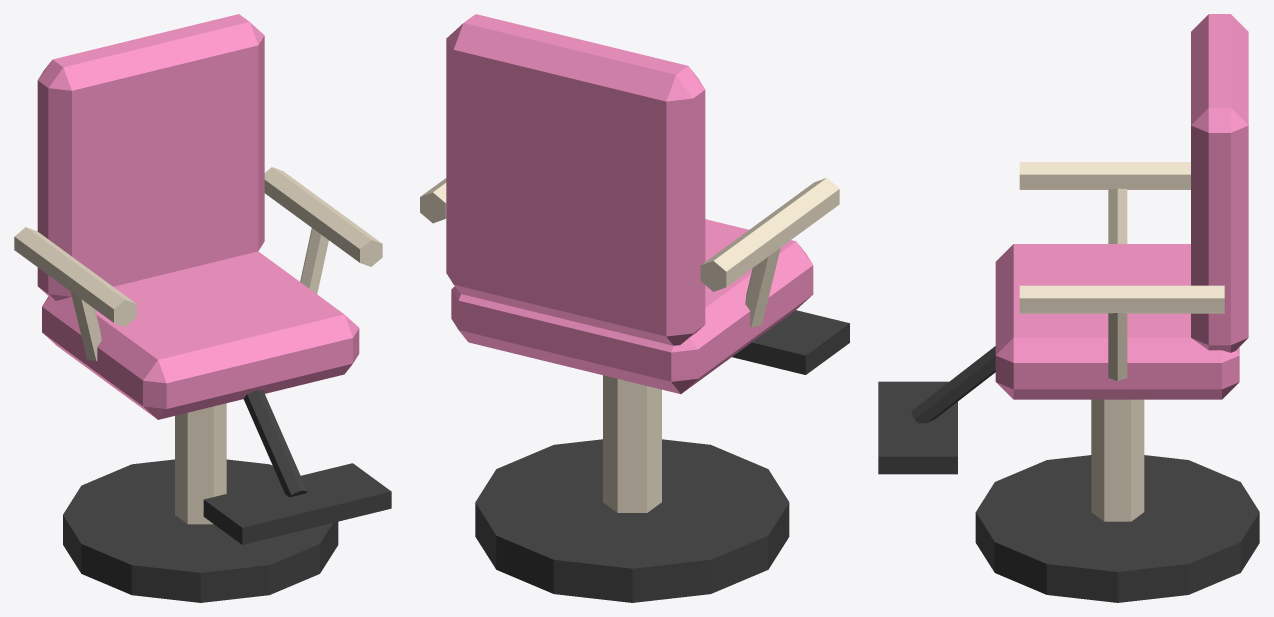
3 renders of one model, left to right at view 1: azimuth 30°, elevation 25°; view 2: azimuth 150°, elevation 25°; view 3: azimuth 270°, elevation 25°, orthographic. The views are drawn at different scales.
Visible parts, largest first — view 1: Back, Seat, Base, Footrest, Hydraulic post, Arm, Arm.001, Footrest support, Arm support, Arm support.001; view 2: Back, Base, Seat, Hydraulic post, Arm, Footrest, Arm support, Arm.001; view 3: Base, Seat, Back, Footrest, Hydraulic post, Arm.001, Arm, Footrest support, Arm support.001, Arm support.
Boxes of the visible parts, x1,y1,x2,y2 form: Back: [37, 14, 264, 300]; Seat: [42, 251, 359, 419]; Base: [63, 459, 338, 602]; Footrest: [203, 463, 391, 544]; Hydraulic post: [175, 403, 226, 524]; Arm: [14, 227, 136, 326]; Arm.001: [264, 167, 382, 266]; Footrest support: [243, 390, 306, 497]; Arm support: [70, 291, 101, 361]; Arm support.001: [300, 228, 328, 293]; Back: [446, 14, 705, 345]; Base: [475, 439, 789, 602]; Seat: [451, 219, 813, 394]; Hydraulic post: [603, 375, 661, 512]; Arm: [700, 178, 839, 291]; Footrest: [732, 310, 849, 374]; Arm support: [745, 248, 780, 327]; Arm.001: [420, 178, 446, 223]; Base: [975, 455, 1259, 602]; Seat: [995, 244, 1239, 399]; Back: [1191, 14, 1248, 352]; Footrest: [878, 381, 957, 474]; Hydraulic post: [1091, 399, 1144, 521]; Arm.001: [1019, 285, 1224, 313]; Arm: [1019, 162, 1190, 189]; Footrest support: [911, 346, 995, 423]; Arm support.001: [1108, 313, 1127, 380]; Arm support: [1108, 188, 1127, 243].
Size of the model in its own units: 0.7206 by 1.2 by 0.86.
Materials: 1 (1 with a texture image).
